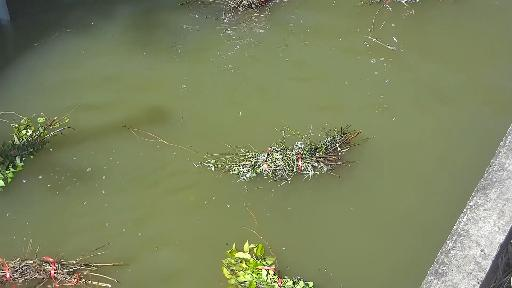twig: (117, 111, 375, 187), (1, 229, 143, 288), (222, 233, 343, 288), (0, 108, 70, 193), (342, 0, 448, 37), (173, 0, 302, 22)
